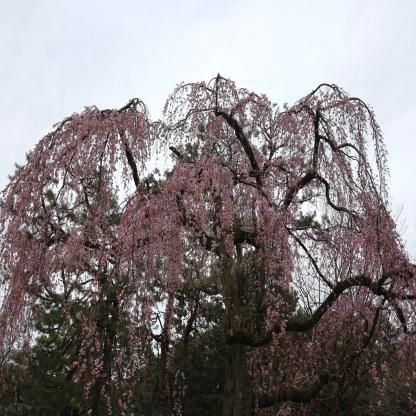ShidareZakura: (0, 73, 416, 416)
